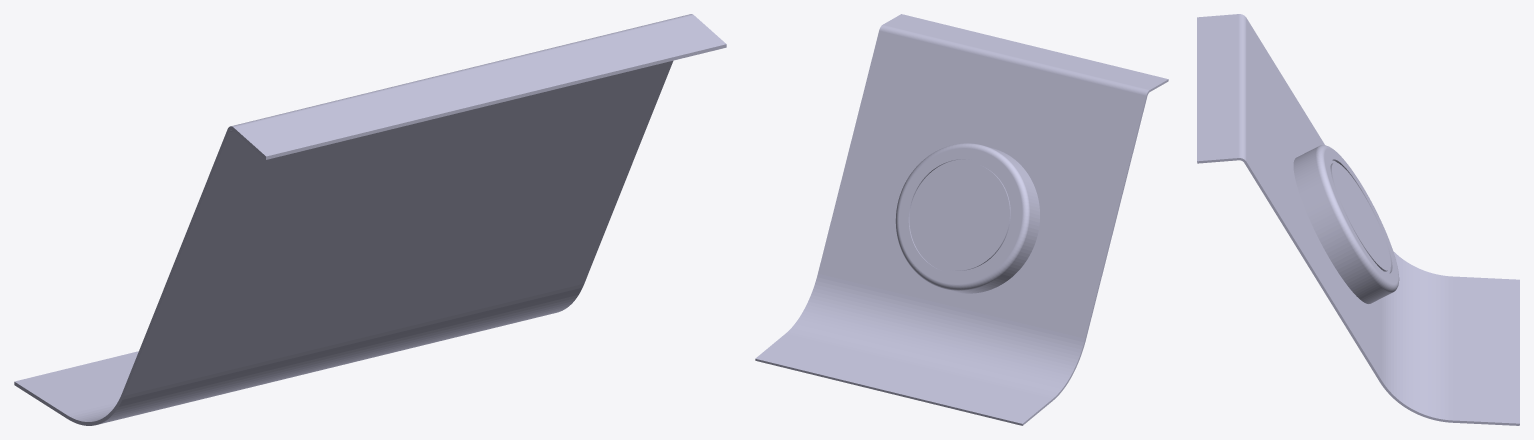
The model's file is trappe.dae.
3 renders of one model, left to right at view 1: azimuth 30°, elevation 25°; view 2: azimuth 150°, elevation 25°; view 3: azimuth 270°, elevation 25°, orthographic. The views are drawn at different scales.
Visible parts, largest first — view 1: node0; view 2: node0; view 3: node0.
Boxes of the visible parts, x1,y1,x2,y2 form: node0: (14,14,726,425); node0: (755,14,1168,425); node0: (1197,14,1519,425).
Bounding box in the file's own units: 0.16 × 0.1516 × 0.1388.
